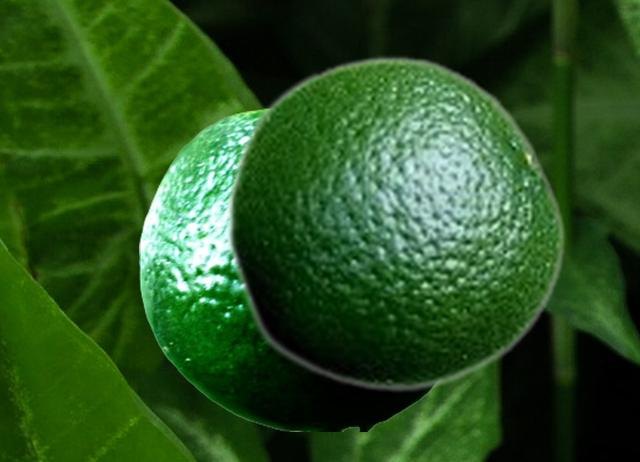calamansi: (224, 54, 566, 393), (139, 105, 435, 430)
